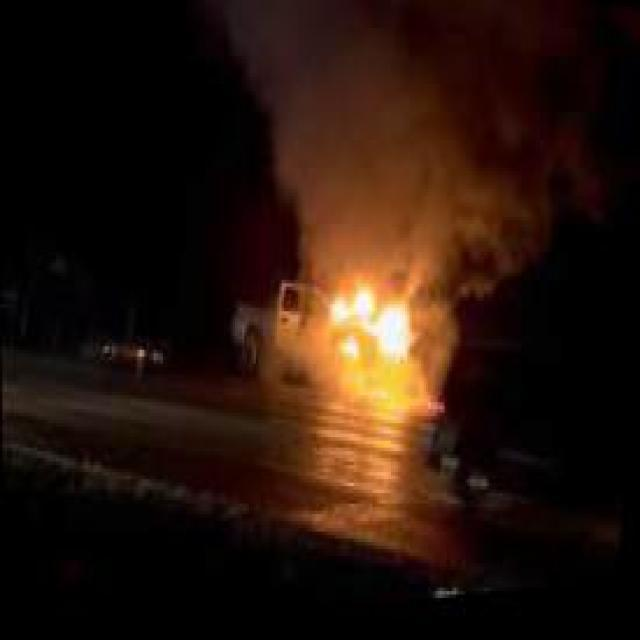Fire: (291, 242, 433, 419)
Smoke: (188, 0, 418, 287), (382, 73, 550, 301)
